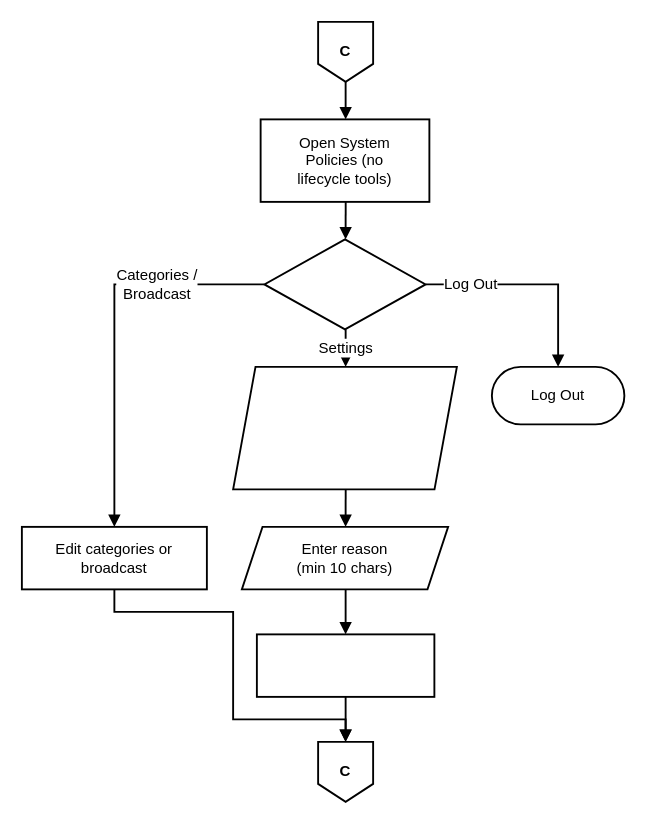
This 648x825 diagram has some shape labels left out. Here are the shapes that lost their labels. From the top down, the box of each, then its label:
(263, 238, 426, 330): Select section?
(232, 365, 457, 490): Edit loan, fine, hold, hours, reminder, program & FAQ settings
(255, 633, 435, 697): Commit settings & log audit
